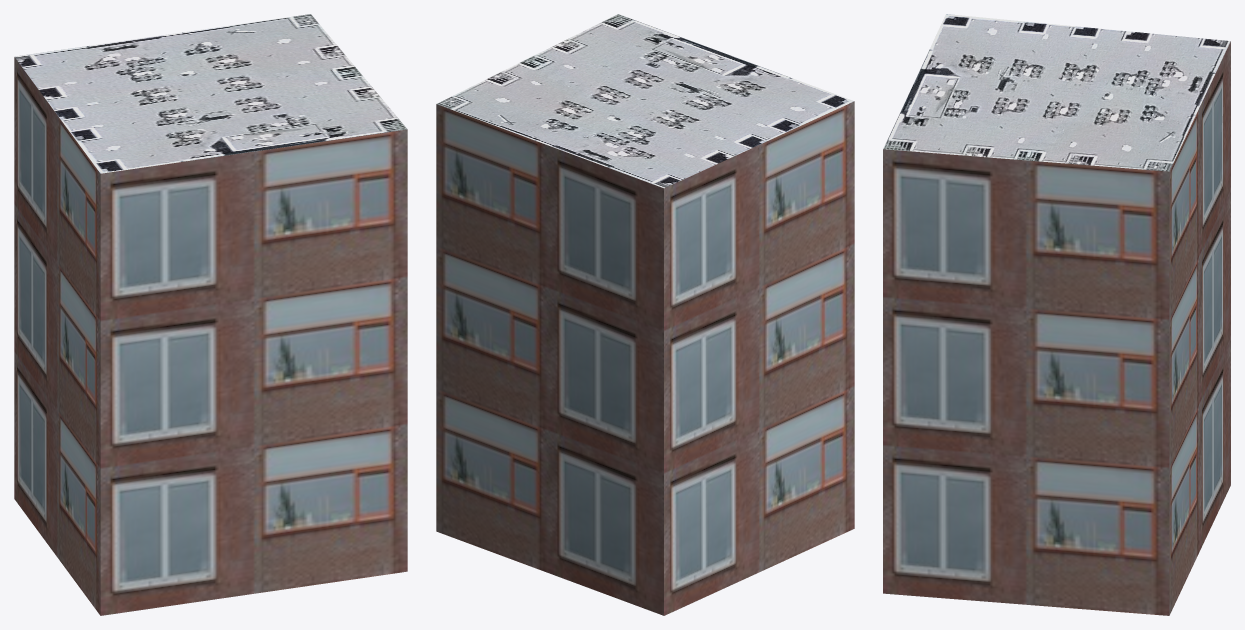
File: ResTex__2629.fbx
3 views of the same model, side by side, from view 1: azimuth 30°, elevation 25°; view 2: azimuth 150°, elevation 25°; view 3: azimuth 270°, elevation 25° (orthographic). The views are drawn at different scales.
Parts seen in each view (by area): view 1: CityEngineMaterial_19_m, CityEngineMaterial_15_m; view 2: CityEngineMaterial_19_m, CityEngineMaterial_15_m; view 3: CityEngineMaterial_19_m, CityEngineMaterial_15_m.
Boxes of the visible parts, box(x1,y1,x2,y2) form: CityEngineMaterial_19_m: box(14, 57, 407, 615); CityEngineMaterial_15_m: box(14, 14, 407, 173); CityEngineMaterial_19_m: box(436, 101, 854, 615); CityEngineMaterial_15_m: box(437, 14, 853, 188); CityEngineMaterial_19_m: box(883, 41, 1230, 615); CityEngineMaterial_15_m: box(883, 14, 1230, 171).
Size of the model in its own units: 6.85 by 9 by 6.38.
2 materials, 2 textured.
